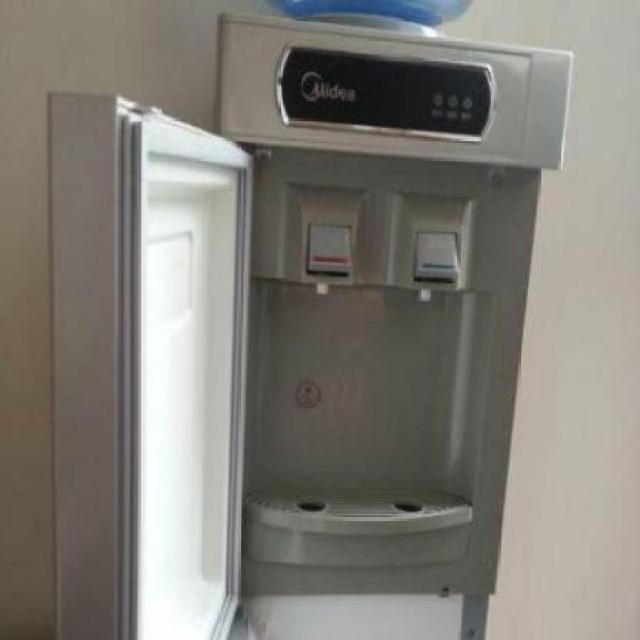cooler: (212, 9, 577, 640)
